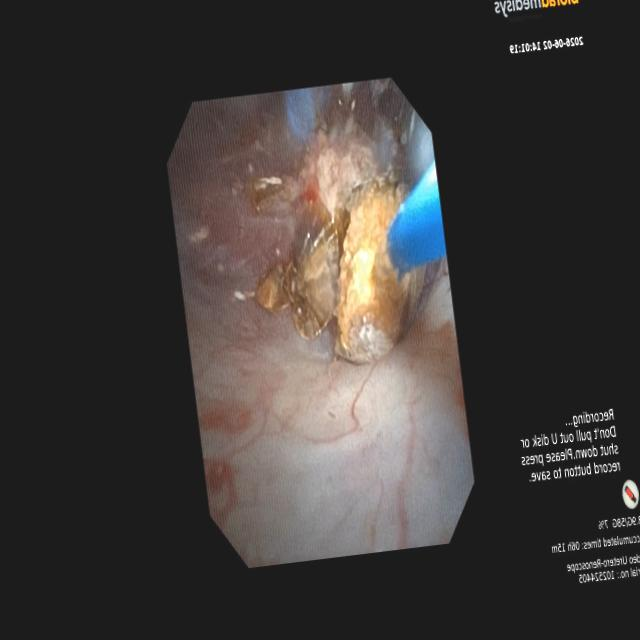laser-fibre: (374, 237, 395, 278)
laser_dot: (355, 259, 370, 289)
stone-new: (333, 176, 425, 362), (255, 207, 346, 338)
